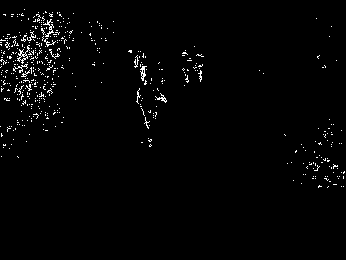person: (137, 76, 167, 147)
